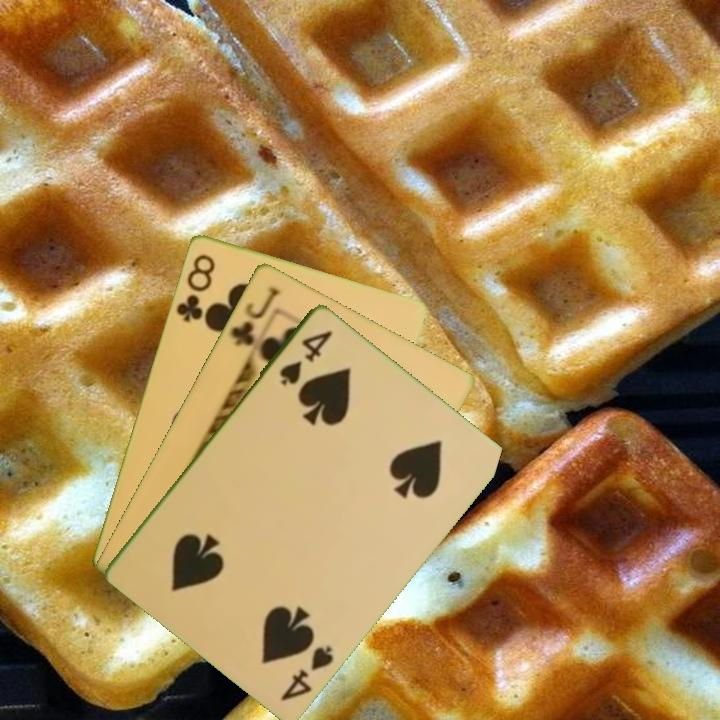4s: (276, 641, 337, 704), (275, 326, 335, 388)
8c: (172, 250, 218, 325)
Jc: (227, 282, 282, 349)
